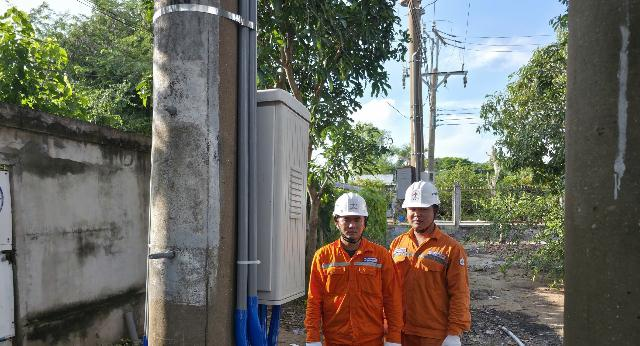helmet: (330, 190, 376, 220), (402, 182, 439, 209)
